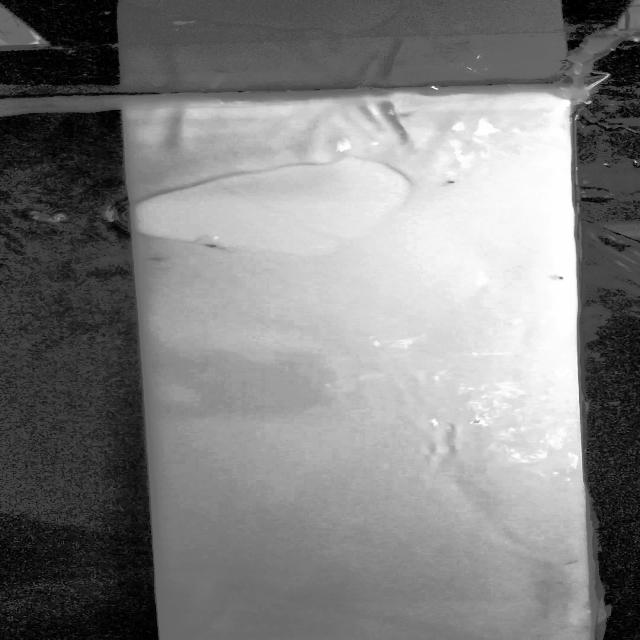shrimp: (535, 268, 577, 290), (431, 172, 476, 190), (197, 240, 232, 254)
